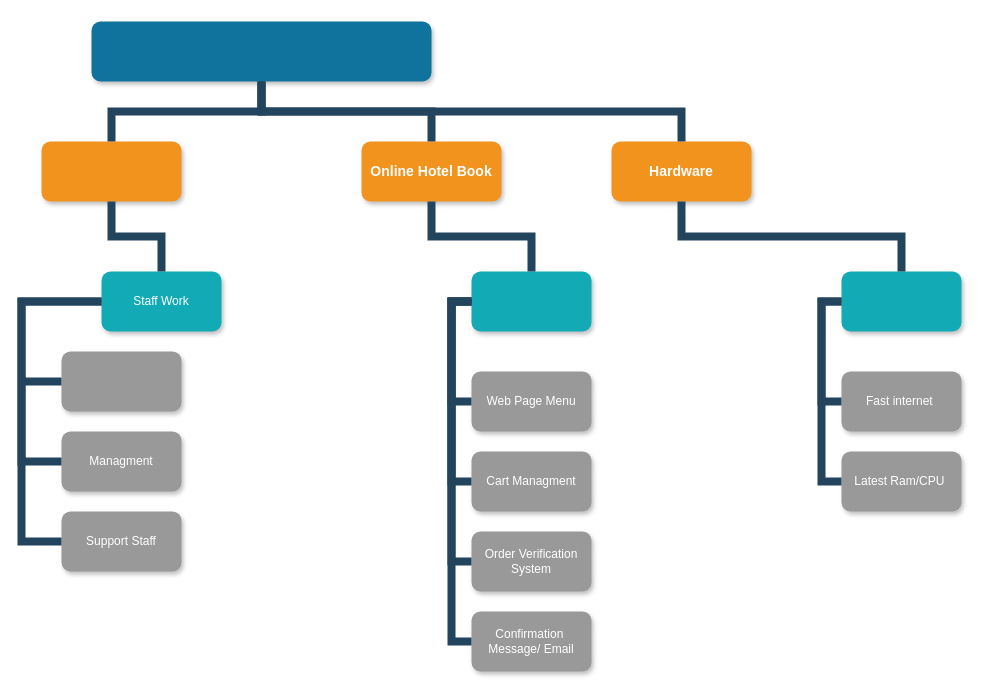
This 984x695 diagram has some shape labels left out. Here are the shapes that lost their labels. From the top down, the centre of each, then its label:
point (262, 52): Online Hotel Booking System
point (112, 172): Staff
point (532, 302): Software Modules
point (902, 302): Personel Computer
point (122, 382): IT
